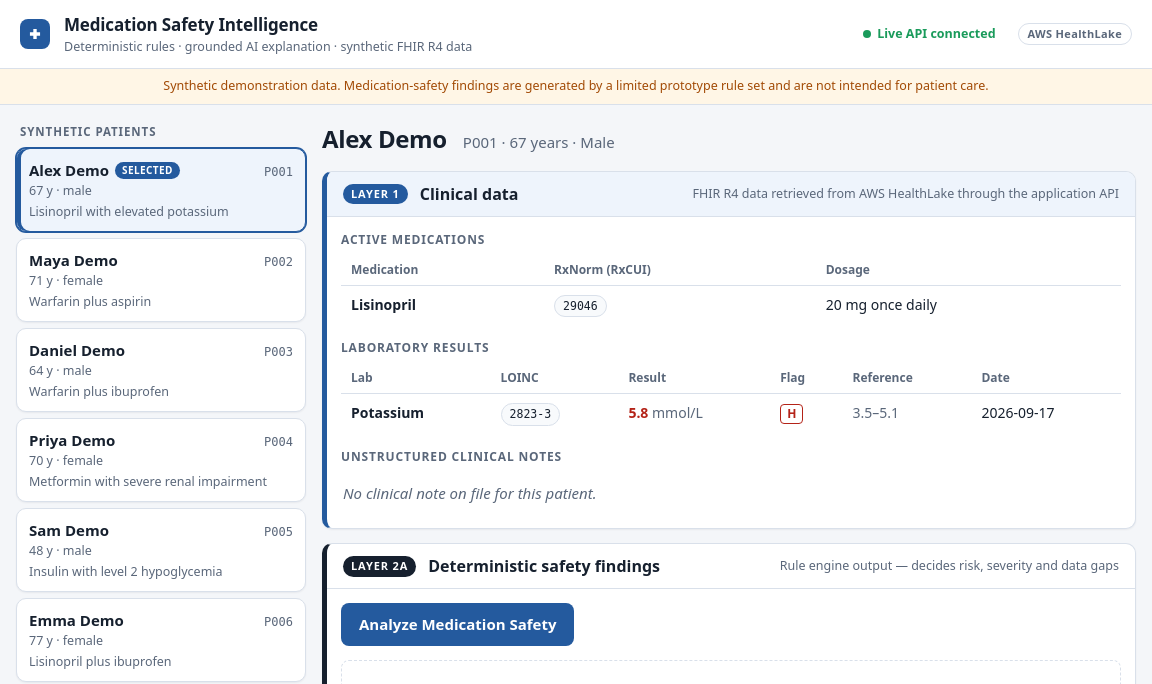
it: explicit save to the clinical FHIR store (never automatic) › shows a generic error without leaking store detail when persistence fails
The width and height of the screenshot is (1152, 684).
Click the button "Analyze Medication Safety" at (458, 625), box 341,603 -> 574,646
(page scrolled)
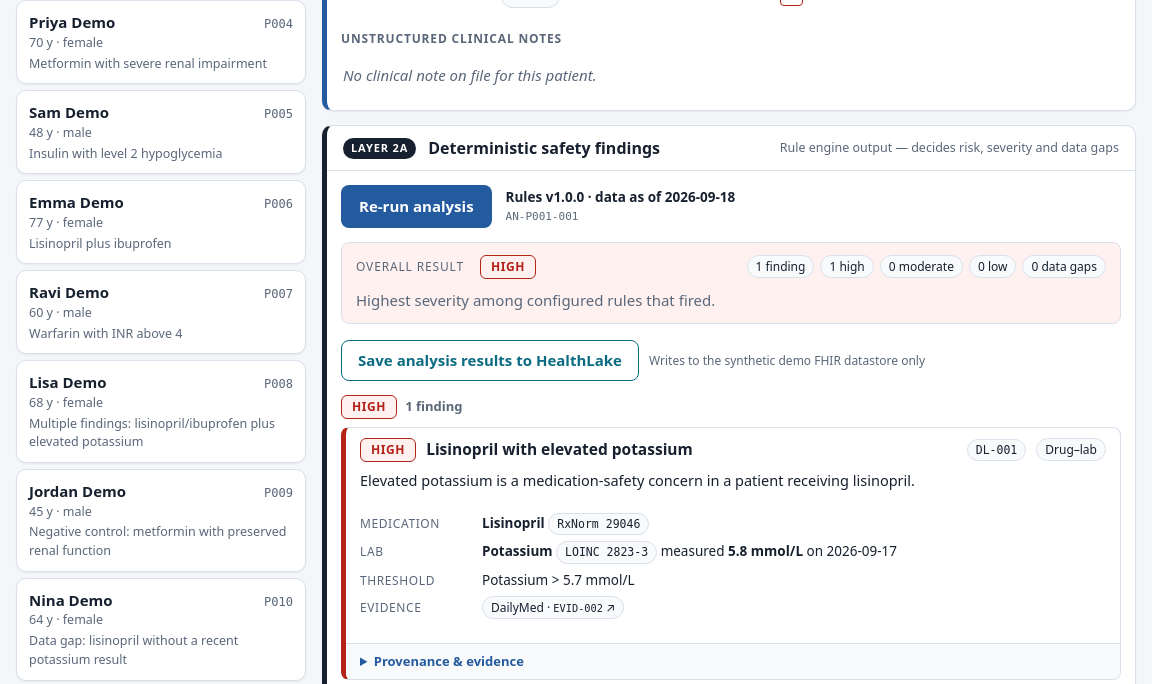
Click the button "Save analysis results to HealthLake" at (490, 361), box 341,340 -> 639,381
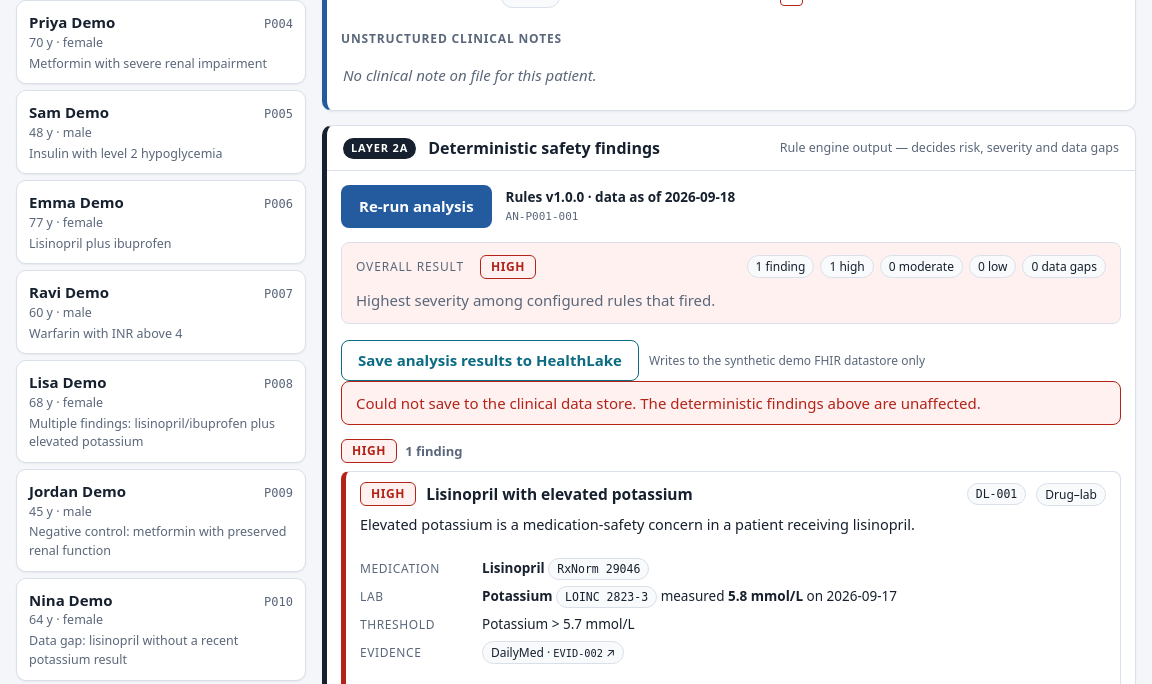
Result: the text "Could not save to the clinical data store" is shown at 356,393 -> 981,413
